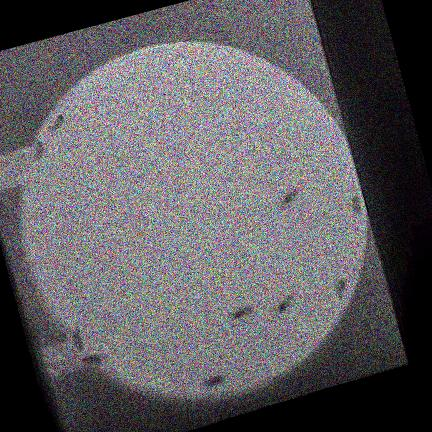fly: (280, 188, 300, 210), (275, 294, 295, 315), (230, 305, 255, 320), (71, 325, 84, 352), (50, 113, 68, 131), (204, 373, 227, 387), (82, 354, 107, 365), (336, 278, 347, 300), (35, 140, 45, 161), (351, 195, 362, 214)
